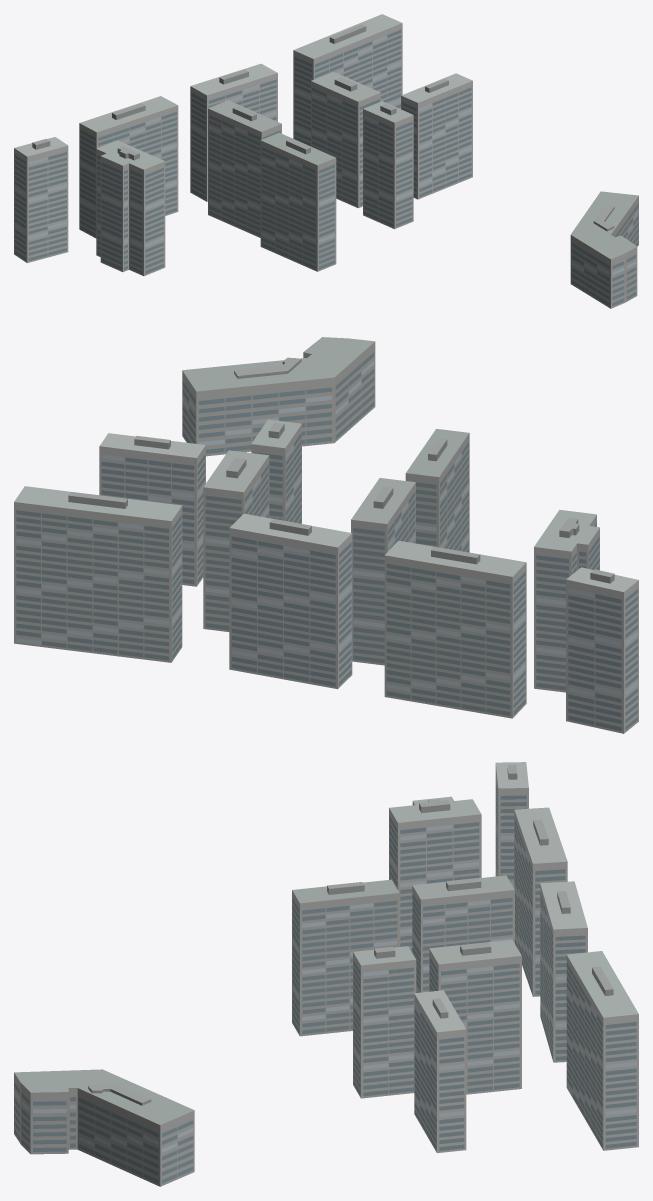
Rendered from apt-a14004002.glb.
3 views of the same model, one above another, from view 1: azimuth 30°, elevation 25°; view 2: azimuth 150°, elevation 25°; view 3: azimuth 270°, elevation 25° (orthographic). The views are drawn at different scales.
Parts seen in each view (by area): view 1: apt-a14004002; view 2: apt-a14004002; view 3: apt-a14004002.
Boxes of the visible parts, x1=… form: apt-a14004002: x1=14, y1=14, x2=638, y2=308; apt-a14004002: x1=14, y1=337, x2=638, y2=733; apt-a14004002: x1=14, y1=762, x2=638, y2=1186.
Bounding box in the file's own units: 247 × 55 × 224.
